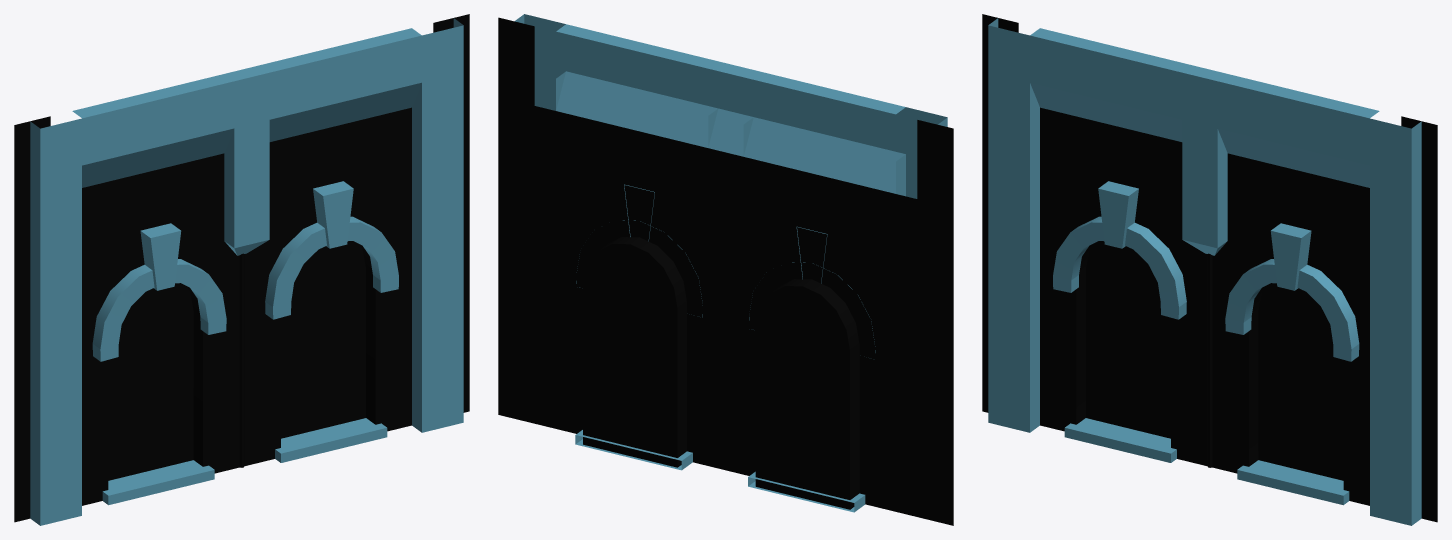
The model's file is wall1cb lod0.FBX.
3 renders of one model, left to right at view 1: azimuth 30°, elevation 25°; view 2: azimuth 150°, elevation 25°; view 3: azimuth 330°, elevation 25°, orthographic.
Visible parts, largest first — view 1: Plane009; view 2: Plane009; view 3: Plane009.
Boxes of the visible parts, x1,y1,x2,y2 form: Plane009: (14,14,469,525); Plane009: (498,14,953,525); Plane009: (982,14,1437,525).
Size of the model in its own units: 6 by 5 by 0.4867.
